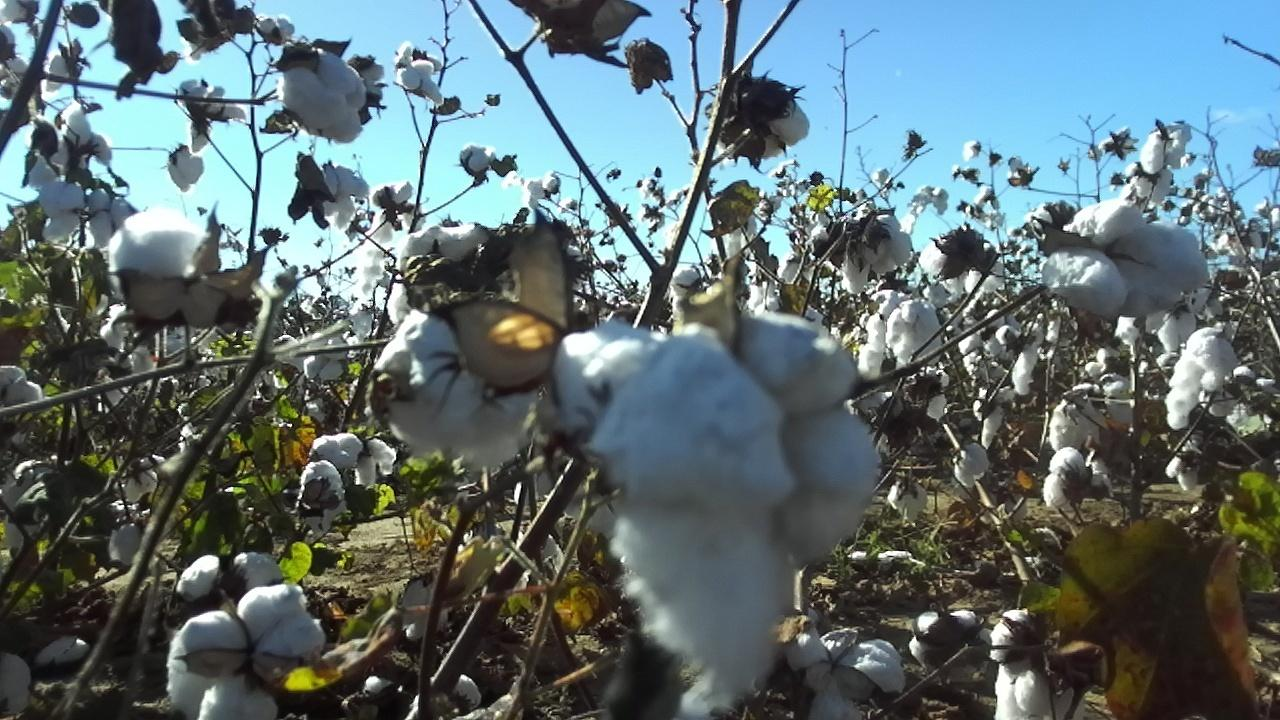cotton_ready: (587, 307, 880, 720), (377, 305, 540, 469), (168, 584, 325, 720), (1045, 200, 1205, 323), (549, 319, 647, 445), (387, 222, 482, 323), (277, 50, 369, 145), (812, 212, 915, 291), (109, 207, 200, 295), (179, 550, 289, 619), (794, 630, 905, 698), (0, 639, 90, 720), (1166, 327, 1235, 427), (908, 610, 992, 683), (718, 99, 812, 161), (993, 665, 1090, 720), (869, 294, 942, 363), (918, 242, 1009, 297), (992, 607, 1060, 671), (1049, 384, 1112, 451), (1043, 449, 1109, 510), (397, 574, 450, 639)
